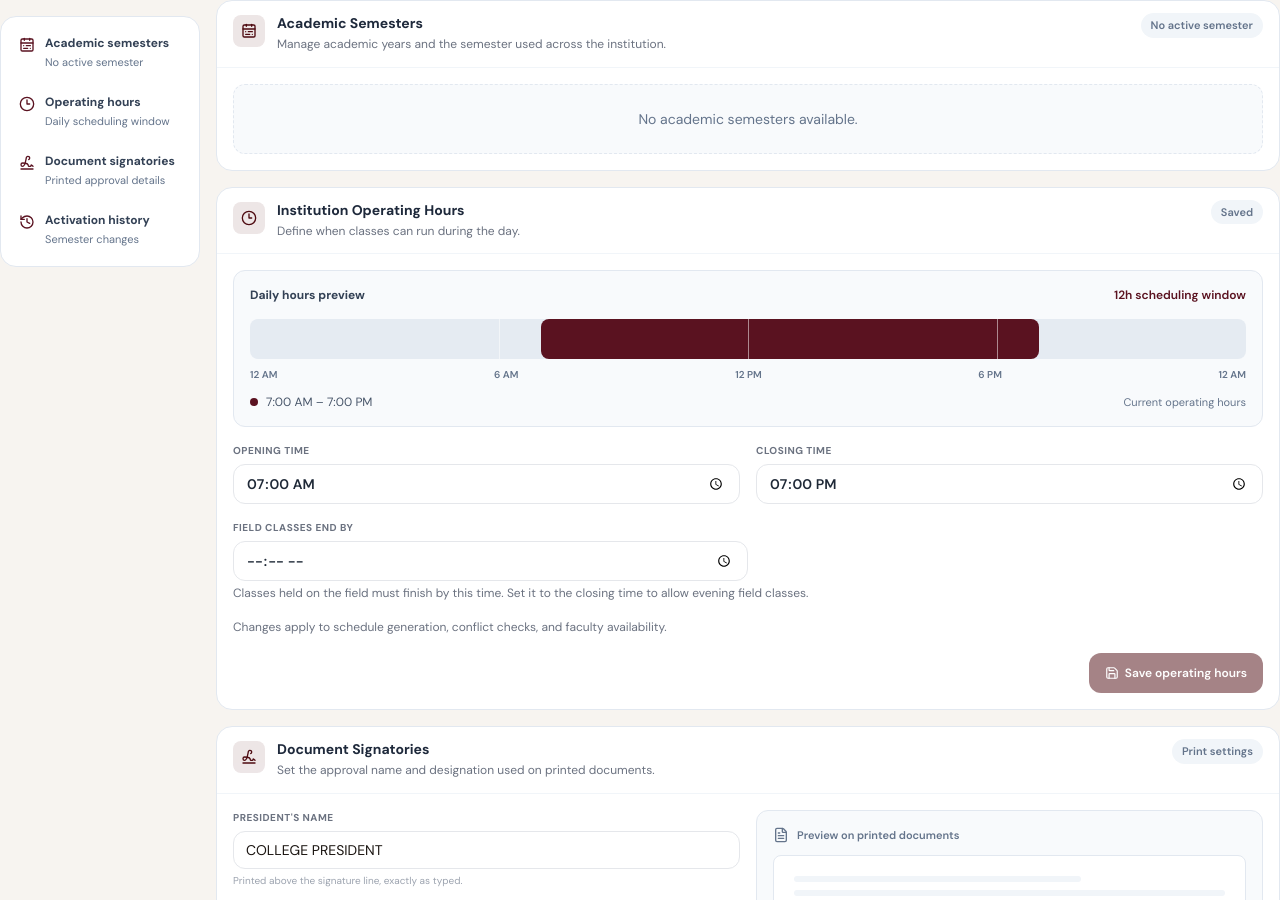
Scenario: VPAA Settings operating hours › previews unsaved operating hours and blocks a reversed time range
Expected: the picture named "Daily scheduling window: 7:00 AM to 7:00 PM" is shown, [250,319,1246,382]
Replace the text in the time field labelled "Closing time" with "20:00" at (1010,484), box [756,464,1263,504]
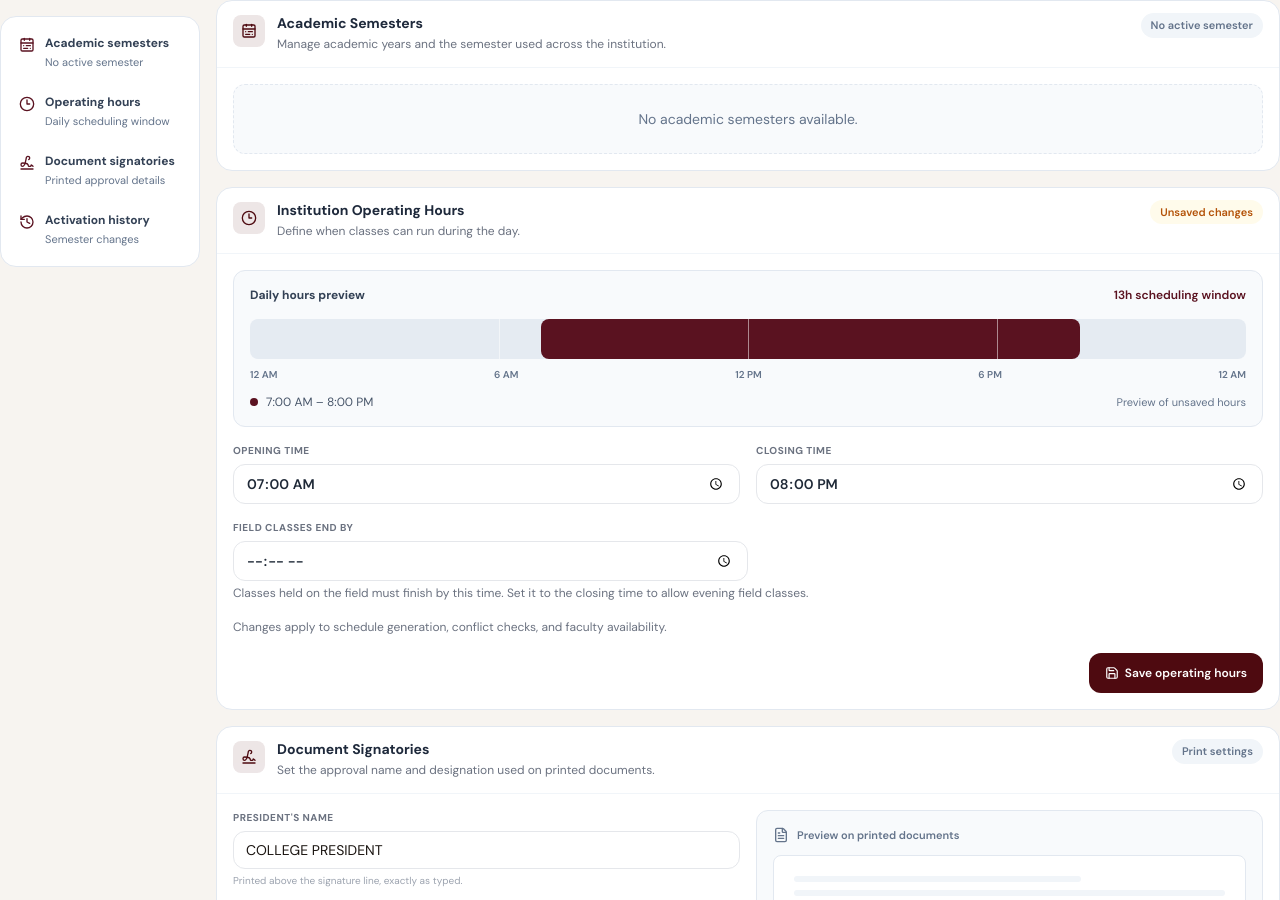
Now the picture named "Daily scheduling window: 7:00 AM to 8:00 PM" is shown, box [250,319,1246,382]
Now the text "13h scheduling window" is shown, box [1114,287,1246,303]
Replace the text in the time field labelled "Closing time" with "06:00" at (1010,484), box [756,464,1263,504]
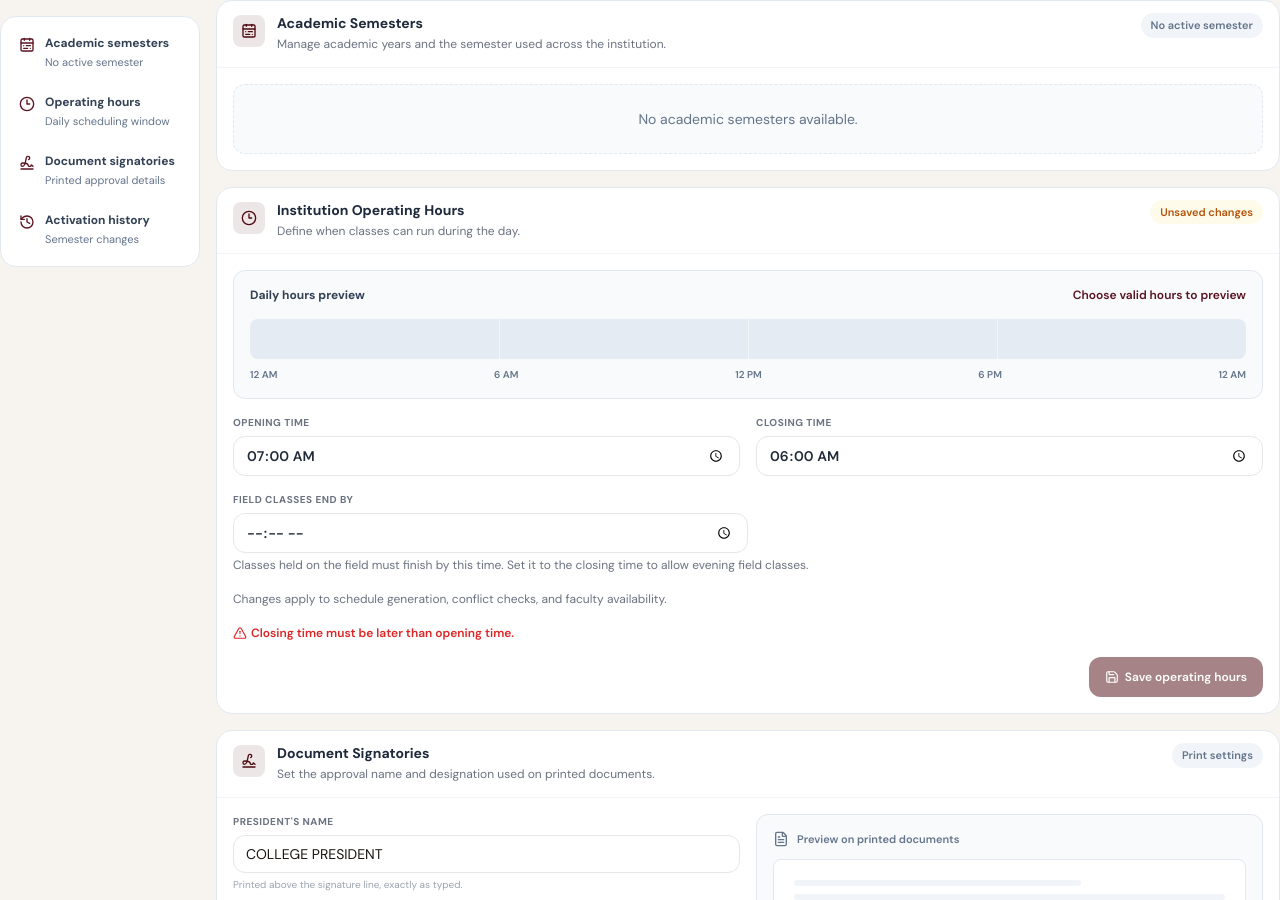
Now the picture named "Daily scheduling window unavailable" is shown, box [250,319,1246,382]
Now the button "Save operating hours" is disabled, box [1089,657,1263,697]
